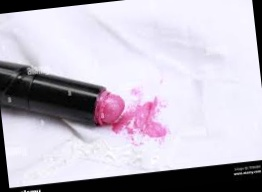lipstick: (115, 88, 171, 148)
